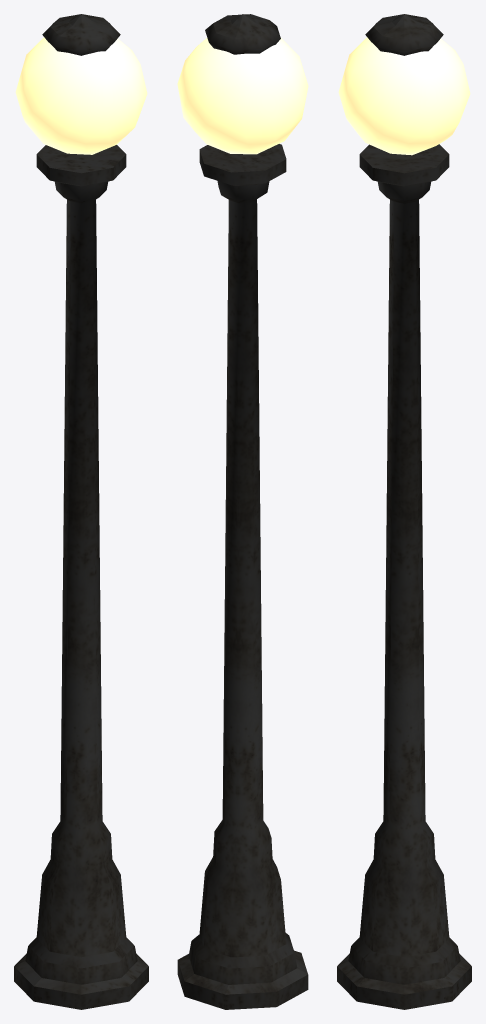
Rendered from den_ven_ho_lod1.glb.
The picture shows the model from 3 angles, left to right: view 1: azimuth 90°, elevation 25°; view 2: azimuth 210°, elevation 25°; view 3: azimuth 270°, elevation 25°; orthographic projection.
Parts seen in each view (by area): view 1: cast_iron_column, lantern_globe; view 2: cast_iron_column, lantern_globe; view 3: cast_iron_column, lantern_globe.
Boxes of the visible parts, x1,y1,x2,y2 form: cast_iron_column: [14, 14, 148, 1009]; lantern_globe: [15, 37, 147, 154]; cast_iron_column: [177, 14, 308, 1009]; lantern_globe: [177, 37, 308, 154]; cast_iron_column: [337, 14, 471, 1009]; lantern_globe: [338, 37, 470, 155].
Size of the model in its own units: 0.48 by 3.8 by 0.48.
2 materials, 1 textured.
